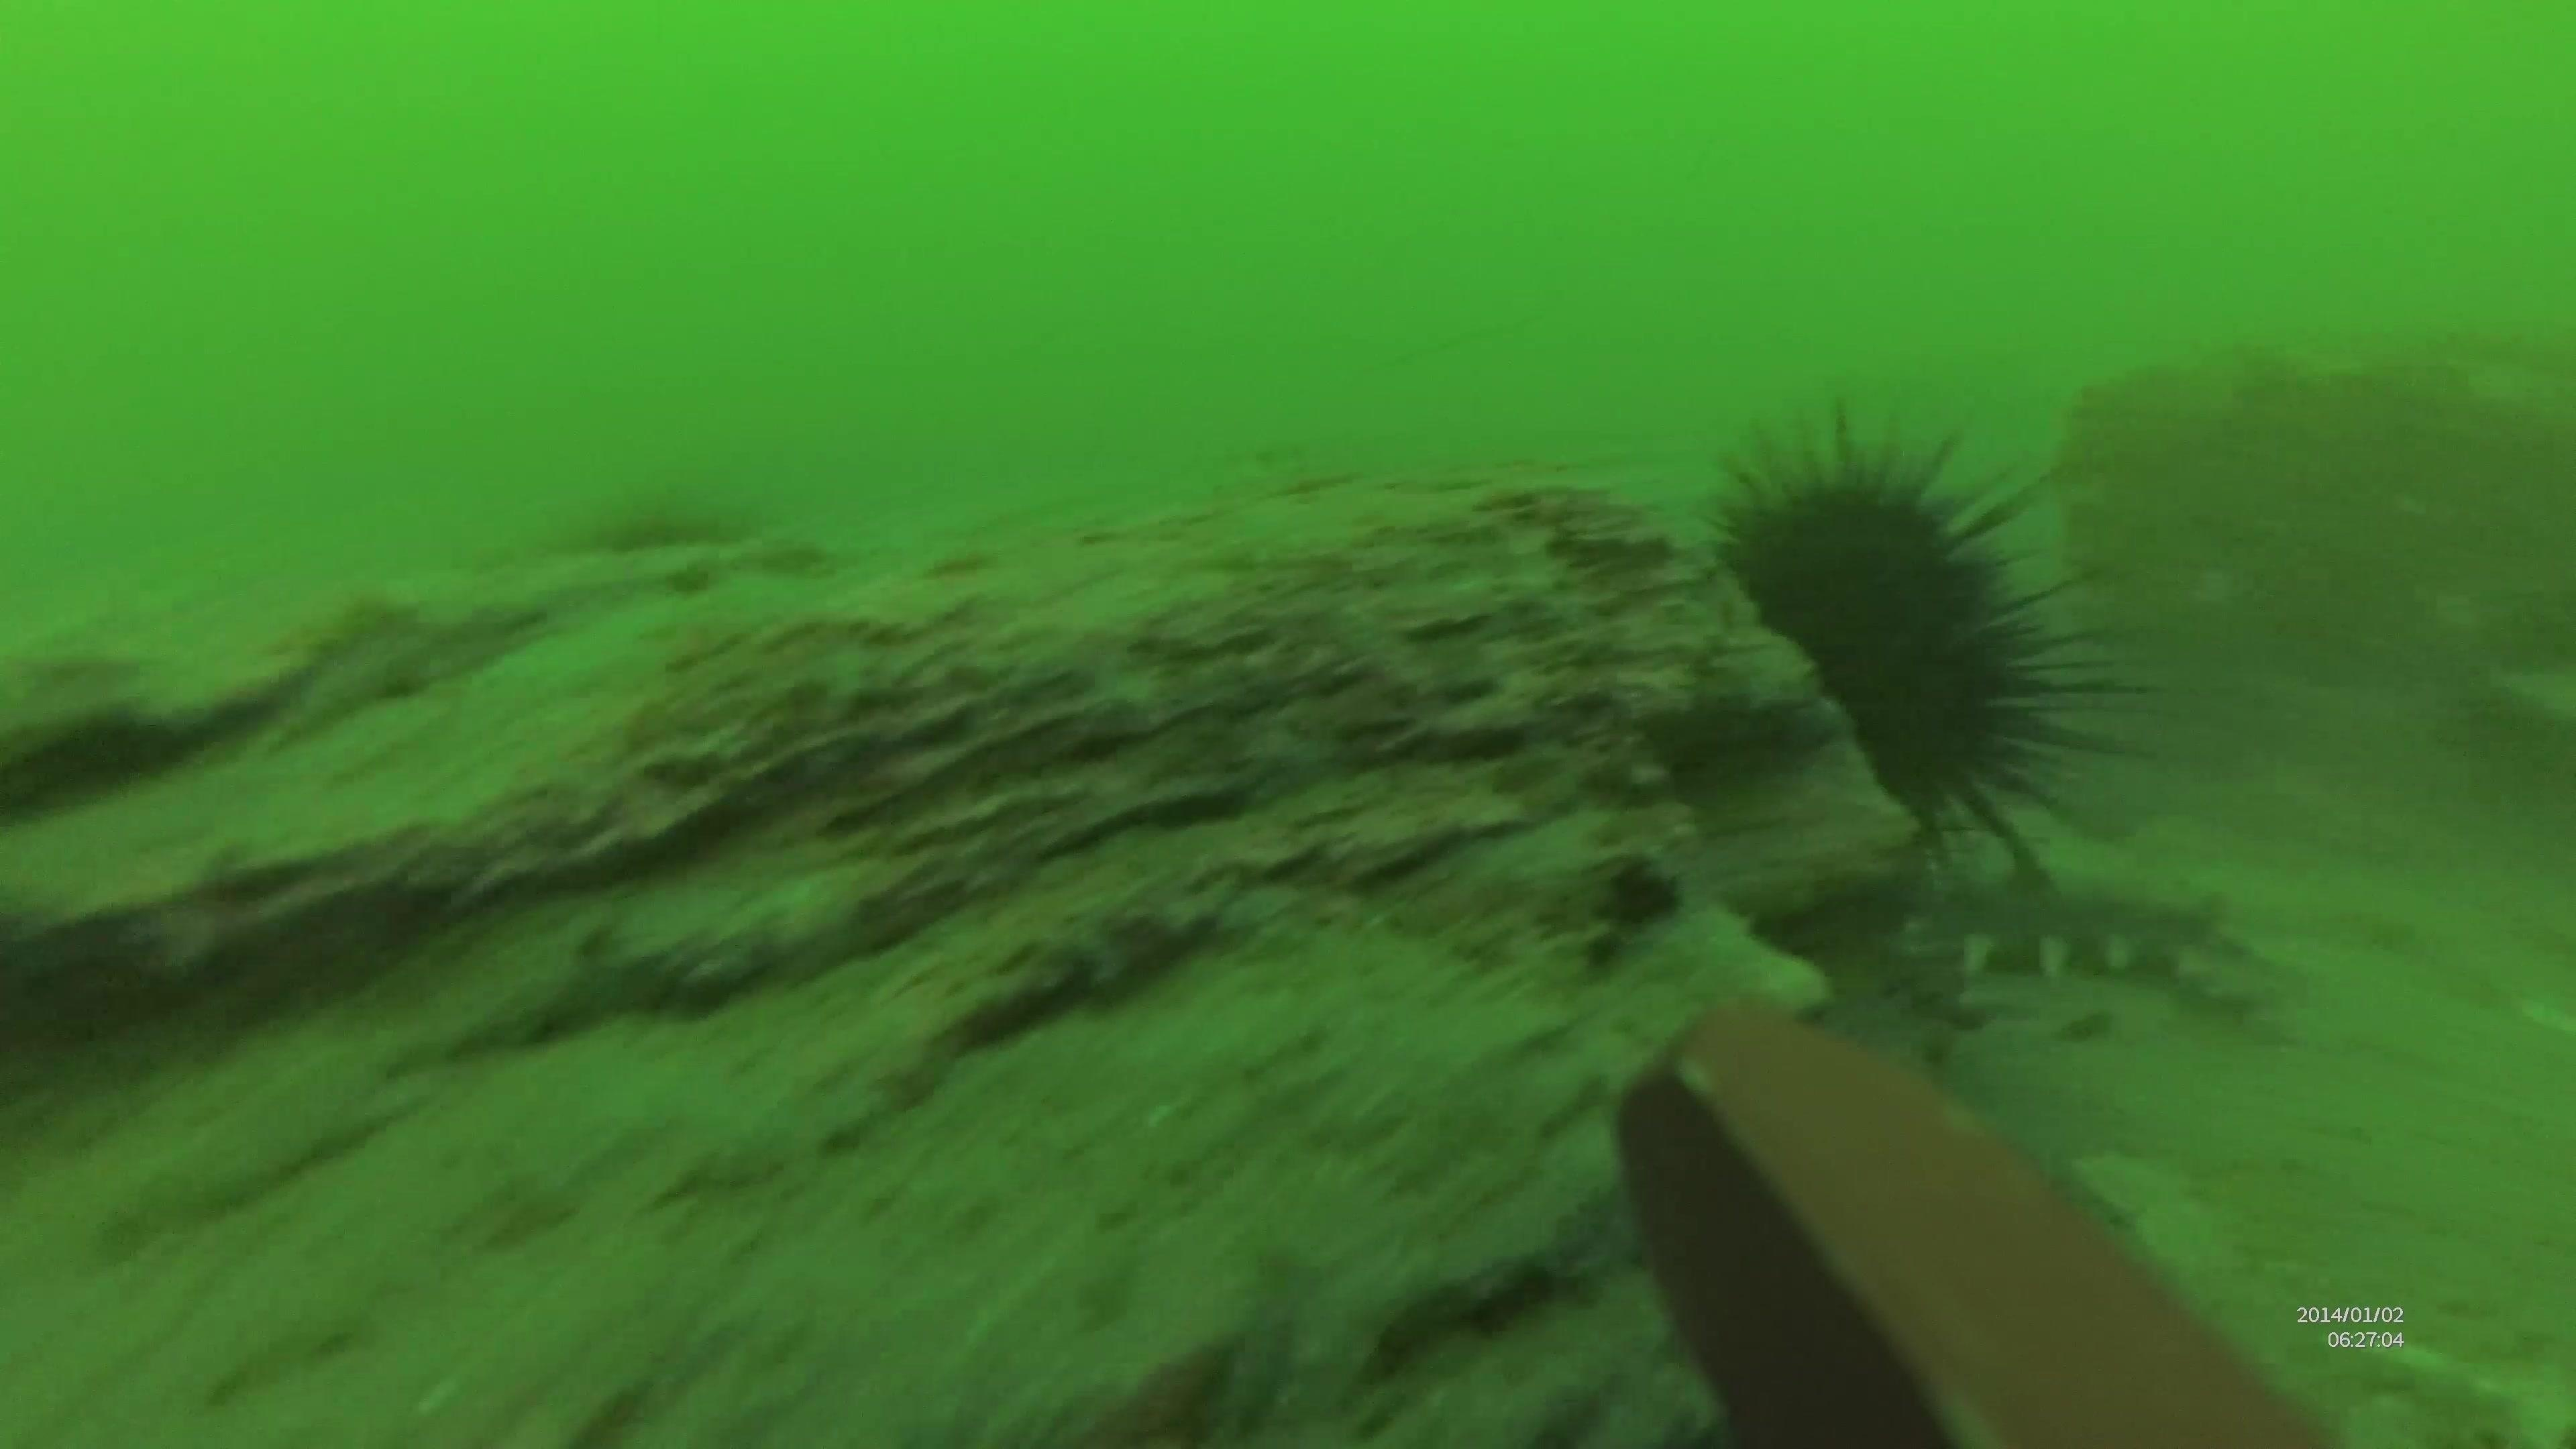echinus: (1684, 398, 2137, 872), (1203, 1217, 1399, 1449)
holothurian: (1879, 856, 2293, 1031)
